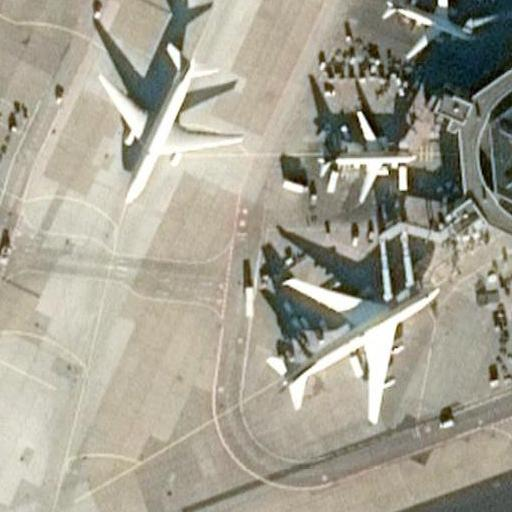Aircraft: (260, 272, 440, 422), (90, 41, 234, 201), (316, 110, 420, 197), (373, 0, 487, 58)
